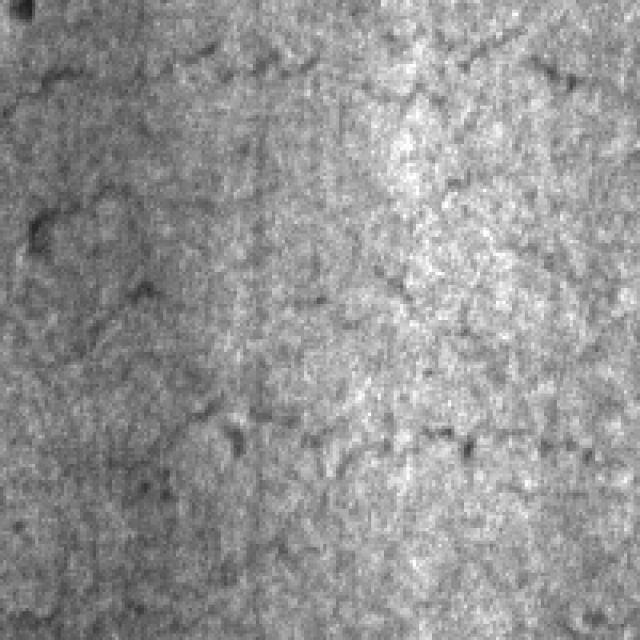crazing: (16, 170, 397, 352), (51, 380, 621, 490), (0, 26, 576, 119)
